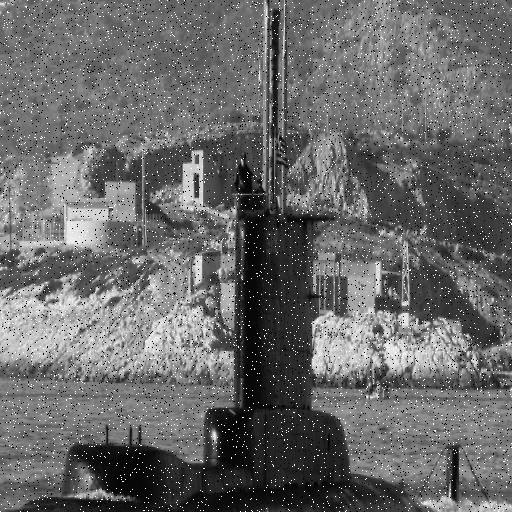submarine: (63, 1, 471, 506)
